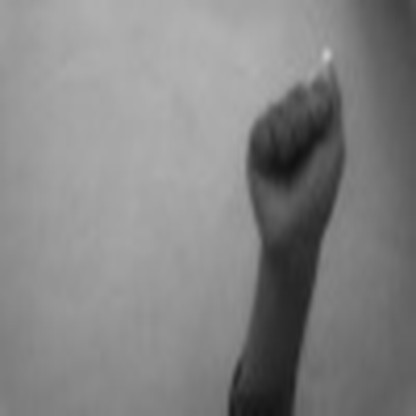a: (241, 53, 351, 245)
